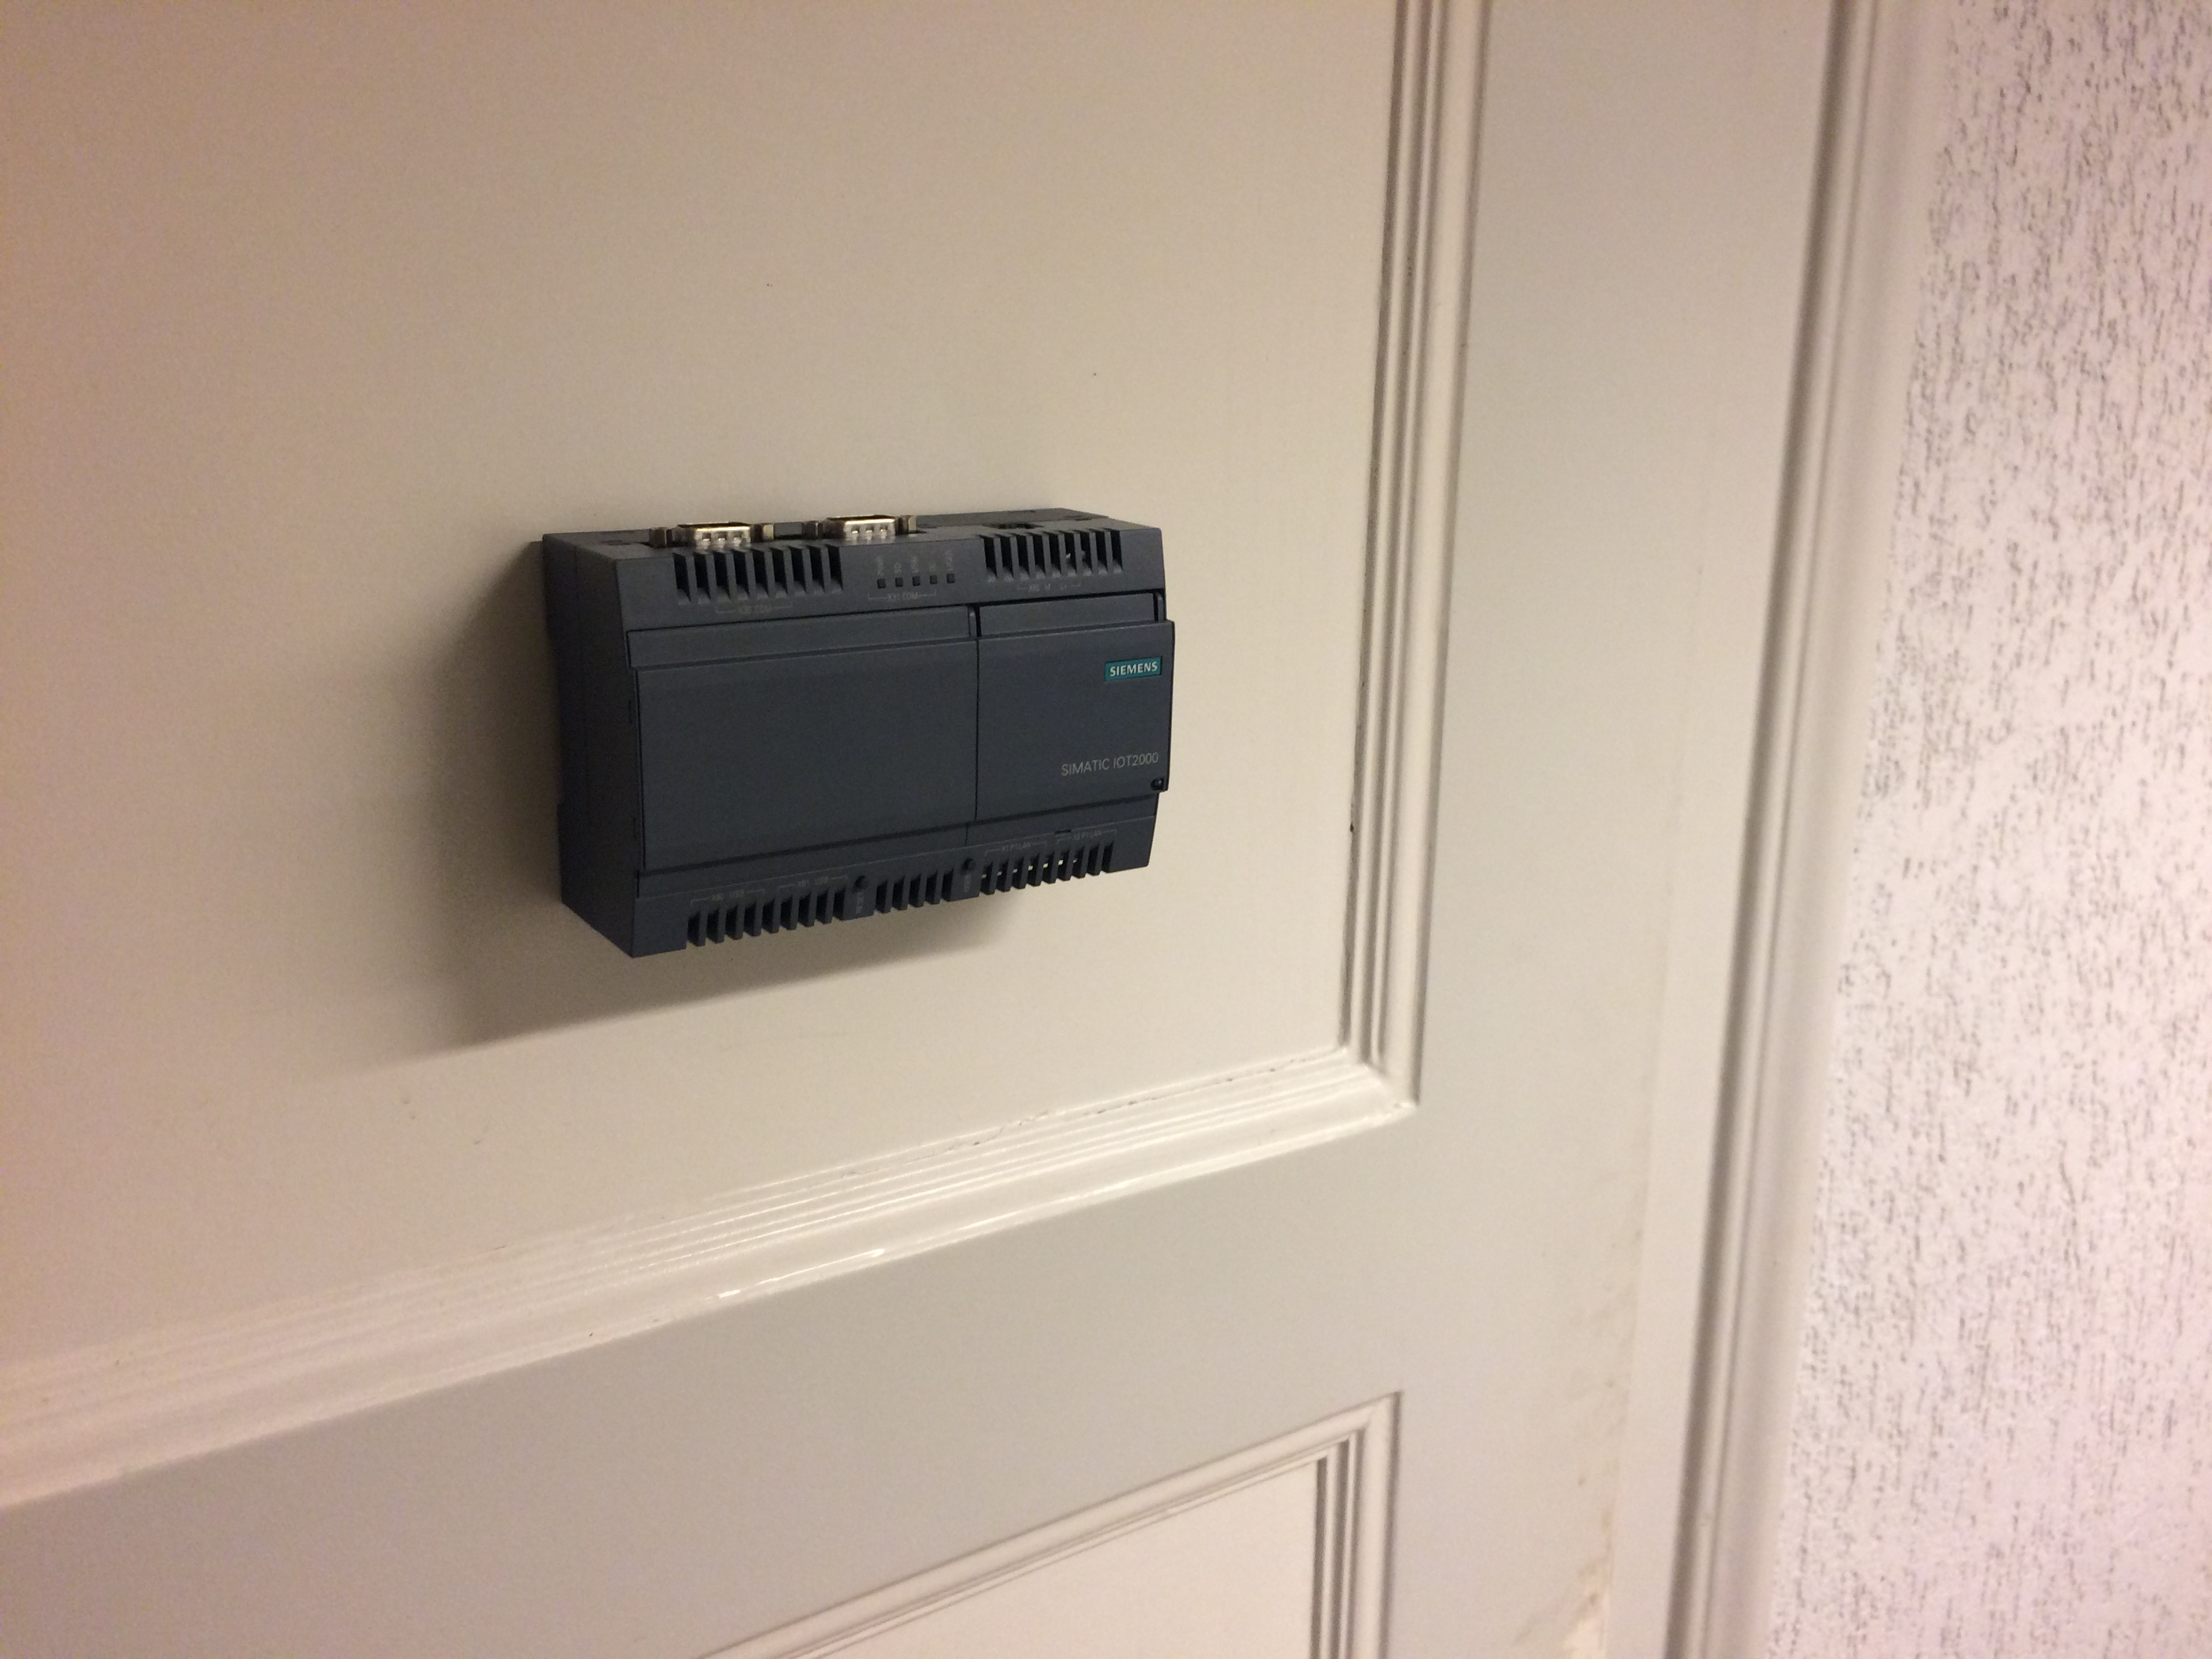iot2000: (536, 504, 1181, 965)
